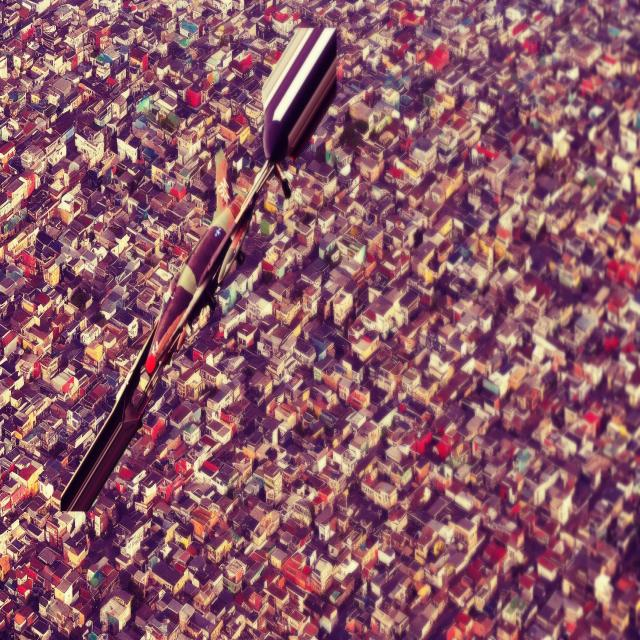airplane: (59, 22, 339, 514)
